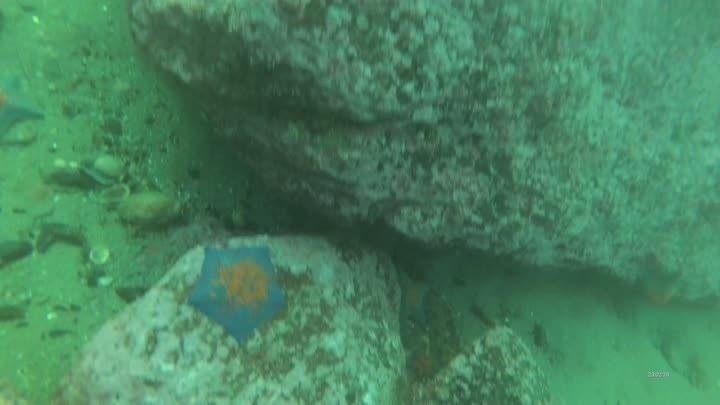starfish: (184, 243, 289, 348), (1, 73, 47, 141), (396, 273, 437, 328), (404, 346, 445, 382)
